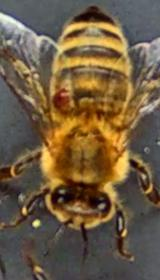varroa_mite: (42, 70, 84, 120)
